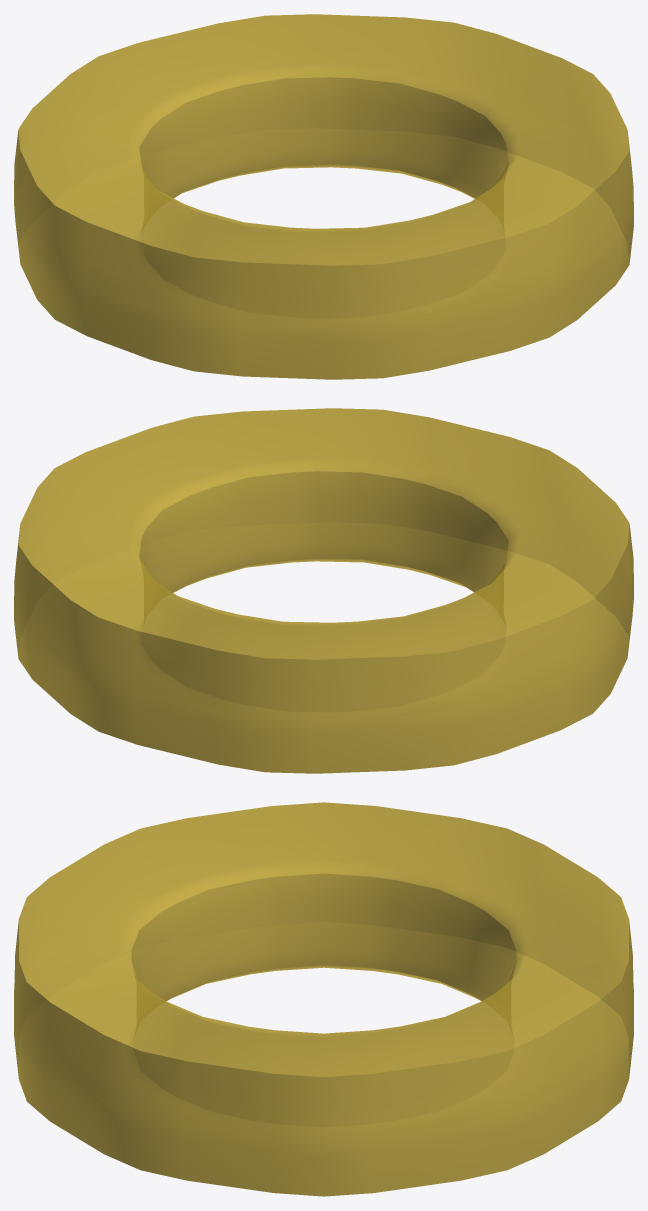
The model's file is Amarillo.fbx.
The picture shows the model from 3 angles, top to bottom: view 1: azimuth 30°, elevation 25°; view 2: azimuth 150°, elevation 25°; view 3: azimuth 270°, elevation 25°; orthographic projection. The views are drawn at different scales.
Visible parts, largest first — view 1: pCylinder13; view 2: pCylinder13; view 3: pCylinder13.
Boxes of the visible parts, x1,y1,x2,y2 form: pCylinder13: (14,14,633,379); pCylinder13: (14,408,633,773); pCylinder13: (14,802,633,1196).
Size of the model in its own units: 208 by 41.54 by 196.
